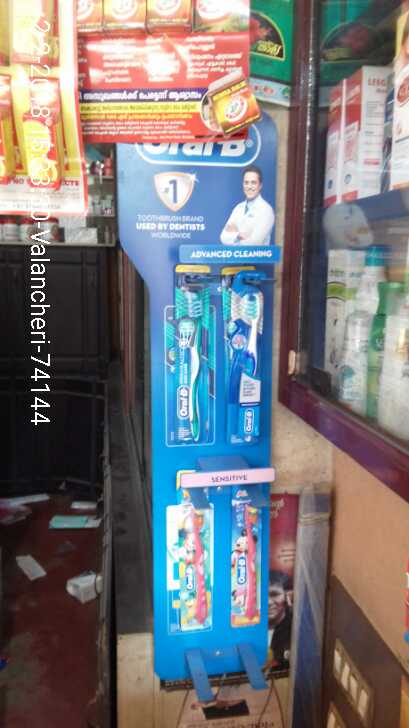oralb: (176, 268, 214, 447), (231, 264, 264, 451), (174, 498, 219, 631), (234, 493, 275, 629)
